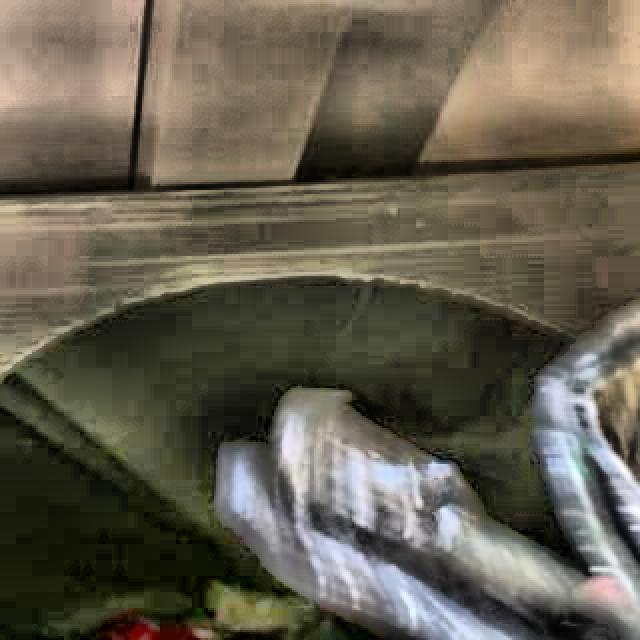metal: (219, 305, 640, 640)
